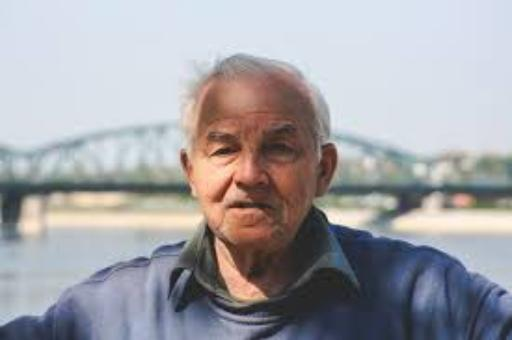left_eye: (266, 143, 299, 155)
left_lip_corner: (261, 205, 278, 215)
right_eye: (210, 146, 240, 158)
right_lip_corner: (223, 205, 237, 213)
